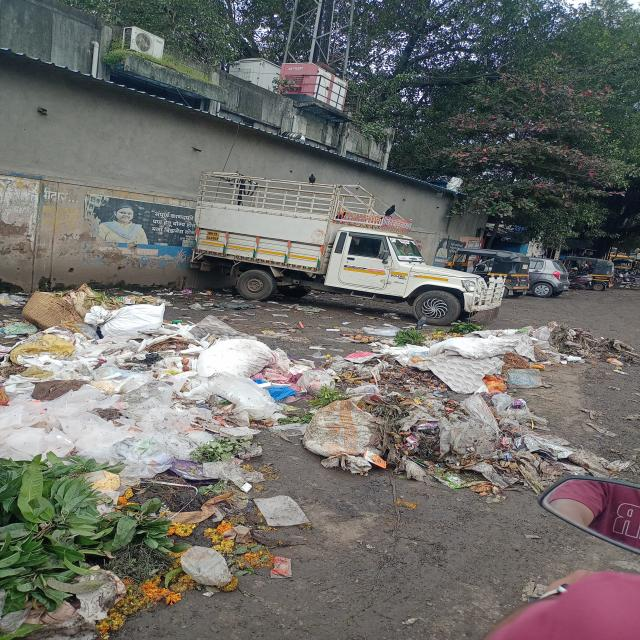garbage: (0, 288, 287, 638), (300, 326, 626, 479)
